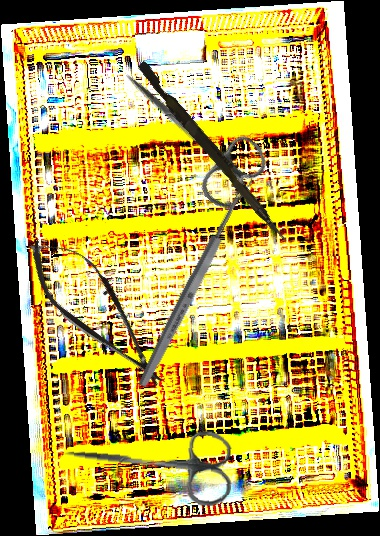Iris Scissors: (100, 50, 275, 215), (60, 417, 236, 509)
Micro Scissor: (14, 222, 182, 402)
Pusher: (132, 60, 295, 244)
Surgical Spoon: (135, 172, 256, 390)
